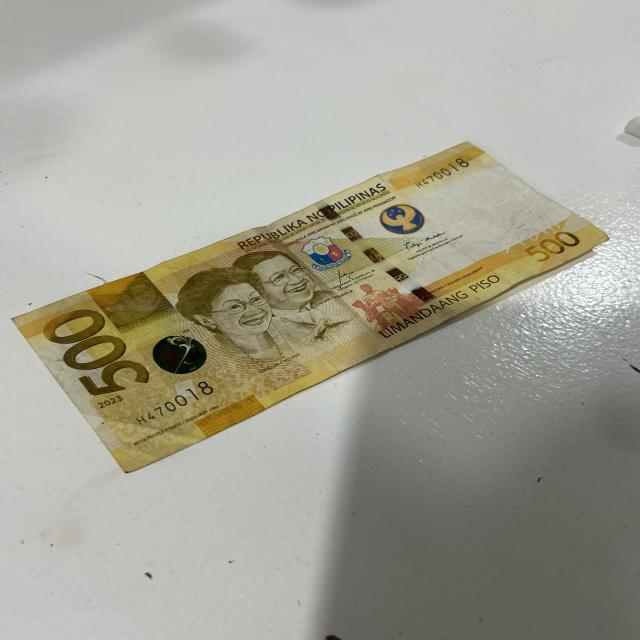concealed_value: (104, 282, 171, 333)
optically_variable_device: (149, 335, 210, 377)
see_through_mark: (488, 215, 572, 254)
